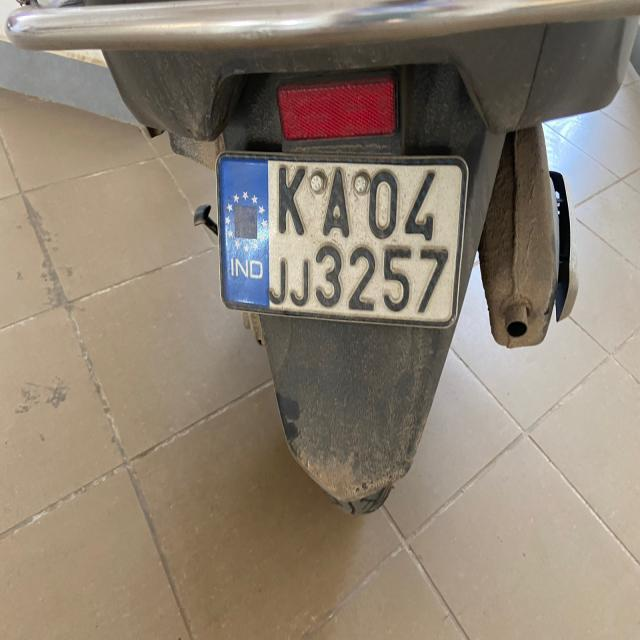0: (366, 158, 401, 242)
3: (313, 239, 344, 316)
4: (401, 155, 438, 244)
5: (383, 238, 417, 326)
7: (416, 242, 450, 320)
A: (317, 162, 357, 242)
J: (265, 255, 292, 302), (290, 258, 312, 308)
K: (272, 159, 310, 240)
